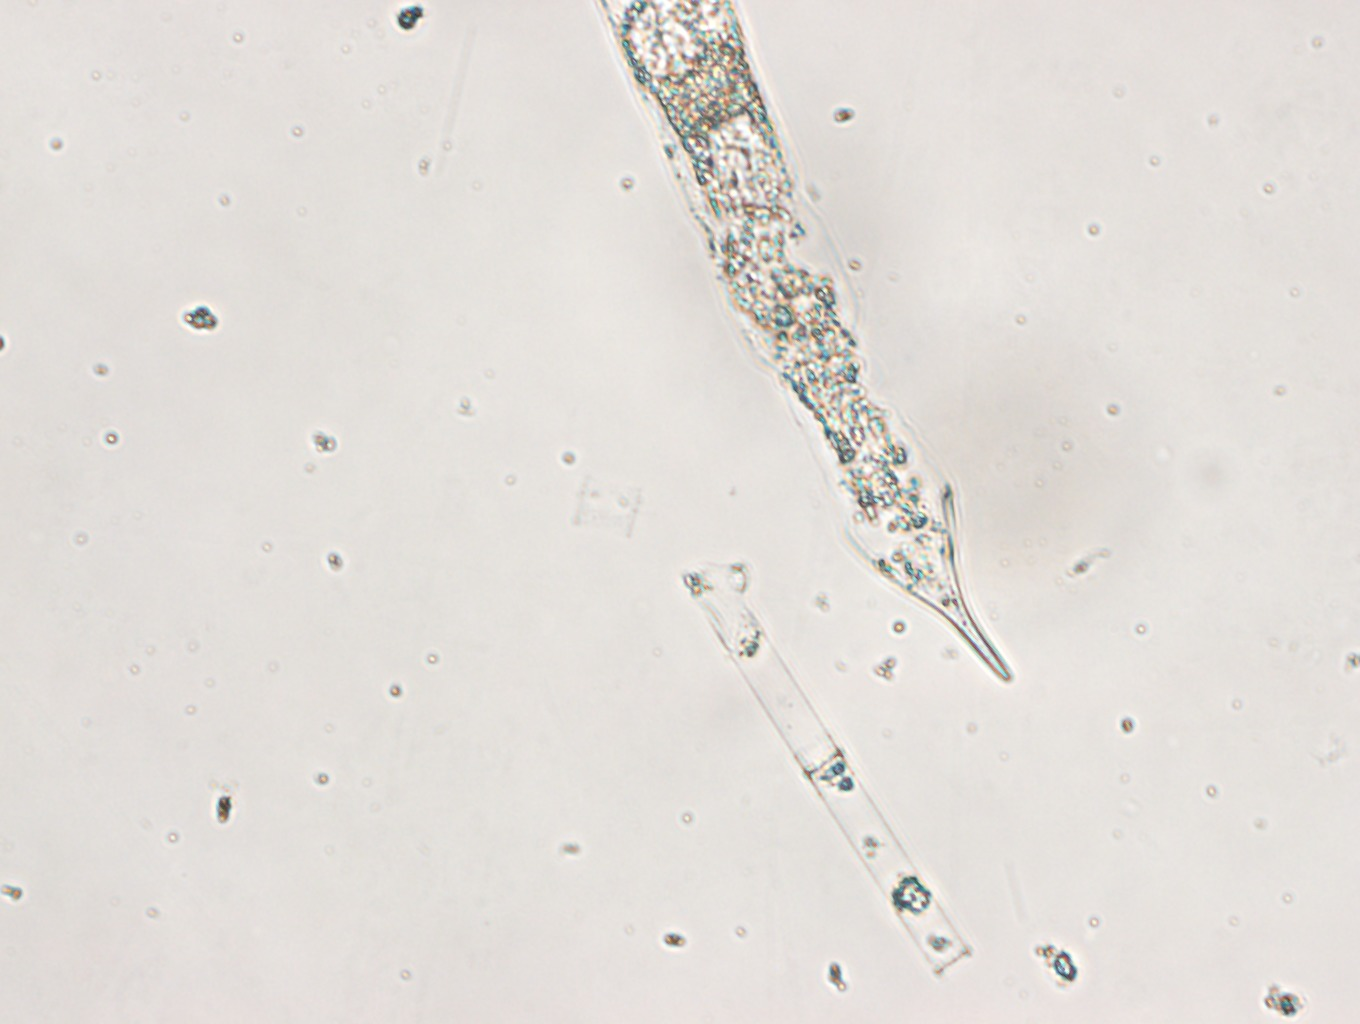rhizosolenia: (598, 1, 1016, 689)
skeletonema: (686, 565, 970, 980)
